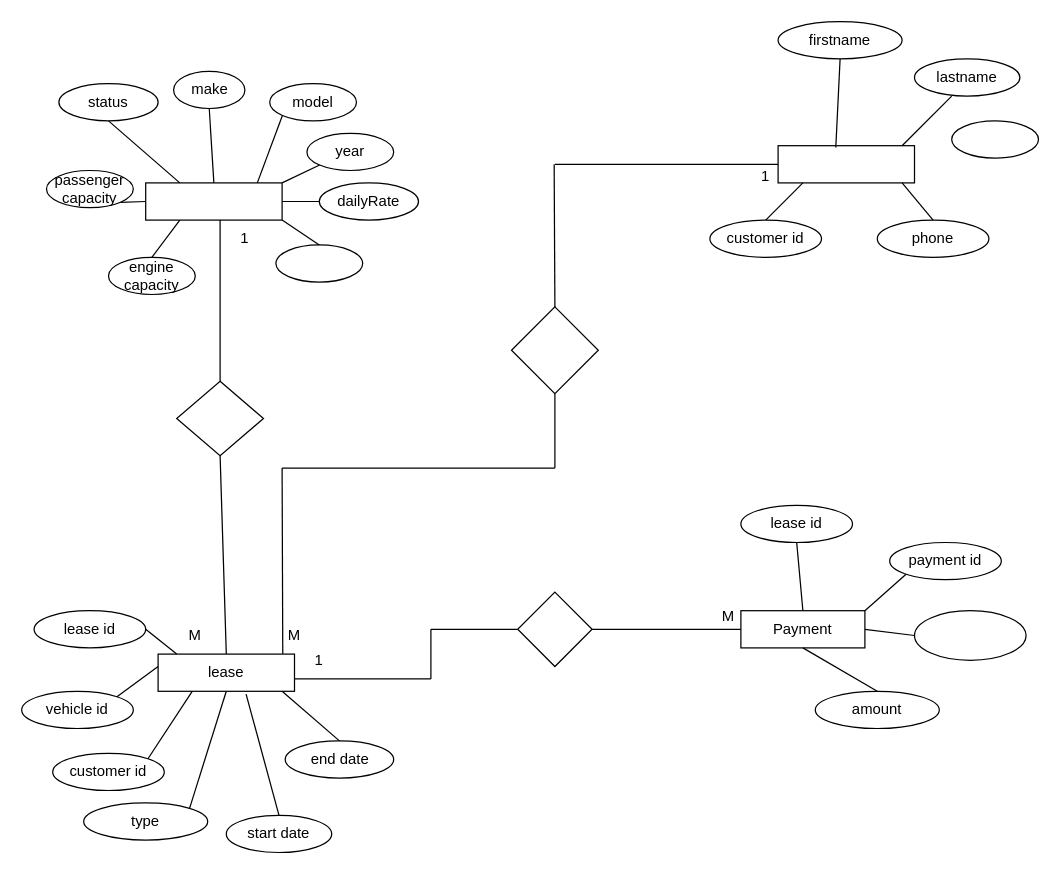
Image size: 1060x874. Some labels were removed from this diagram. Each missing label, with the centre of its shape:
"booked by" goes at point 554,350.
"customer" goes at point 845,163.
"email" goes at point 994,139.
"has" goes at point 554,628.
"is on" goes at point 219,418.
"payment date" goes at point 969,634.
"Vehicle" goes at point 213,201.
"vehicleId" goes at point 319,263.
